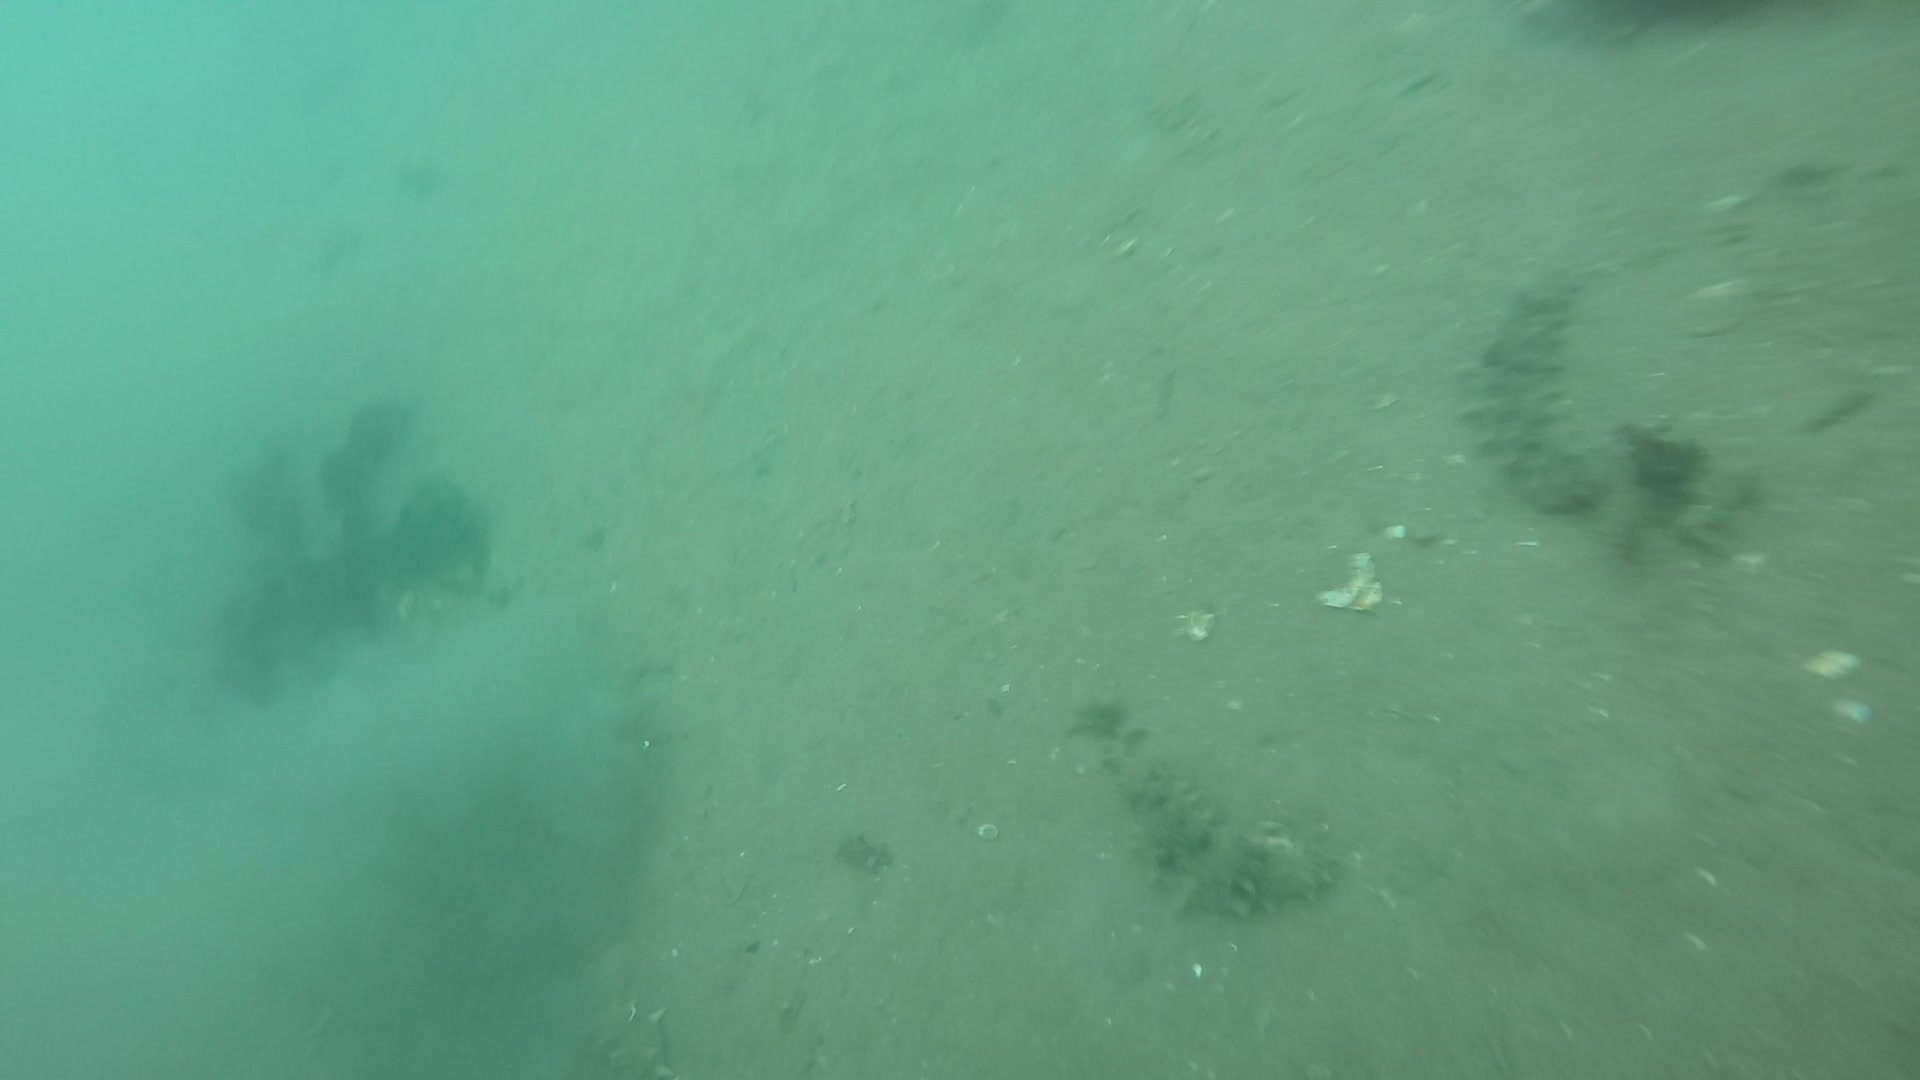holothurian: (1456, 269, 1613, 520), (1113, 756, 1341, 926), (578, 990, 679, 1079)
